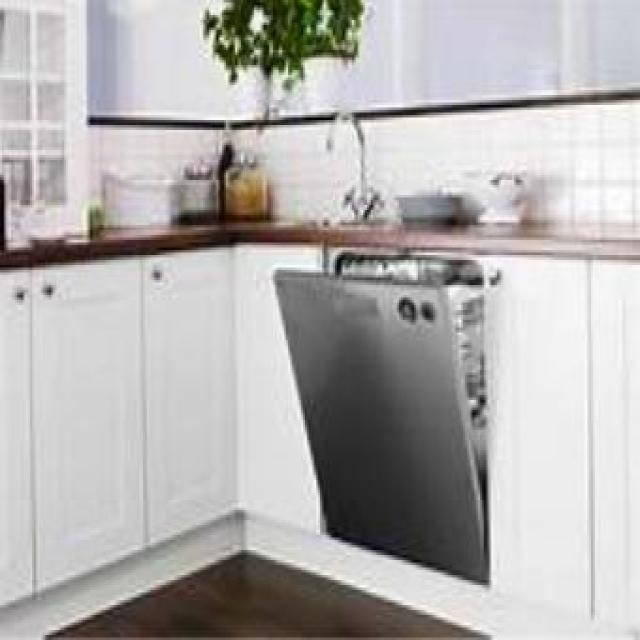dishwasher: (273, 242, 486, 588)
